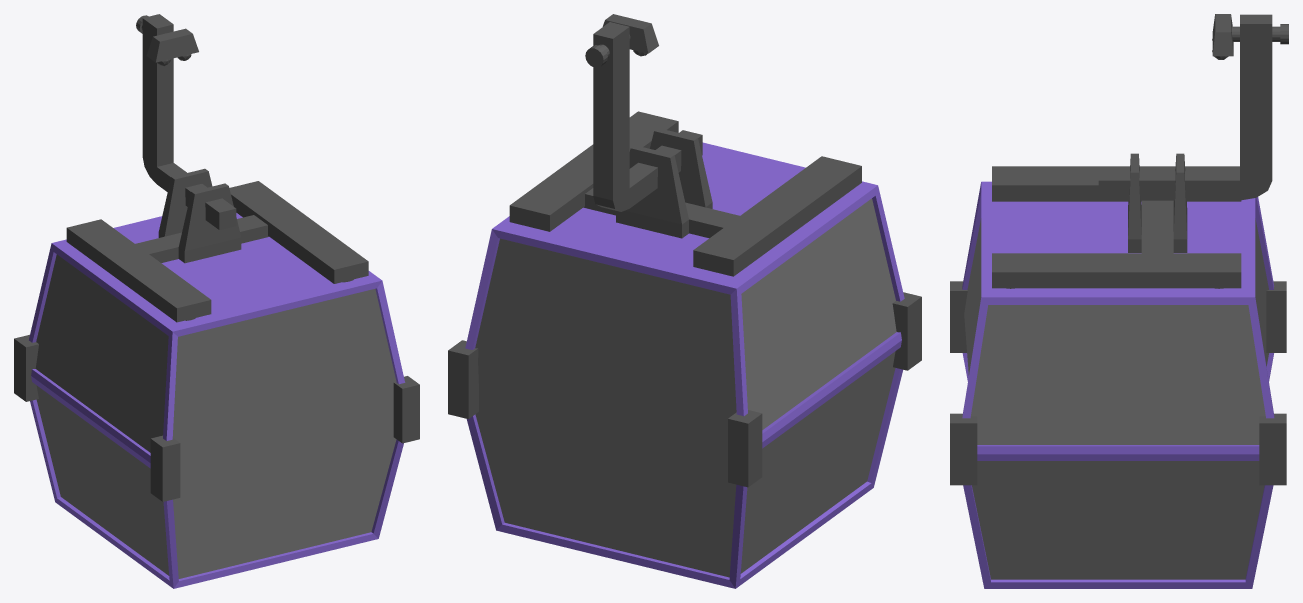
File: CableCar_1.gltf
3 renders of one model, left to right at view 1: azimuth 30°, elevation 25°; view 2: azimuth 150°, elevation 25°; view 3: azimuth 270°, elevation 25°, orthographic. The views are drawn at different scales.
Parts seen in each view (by area): view 1: cable car; view 2: cable car; view 3: cable car.
Boxes of the visible parts, x1,y1,x2,y2 form: cable car: [14, 14, 419, 588]; cable car: [448, 14, 921, 588]; cable car: [950, 14, 1288, 588].
Size of the model in its own units: 2.08 by 3.51 by 2.1.
